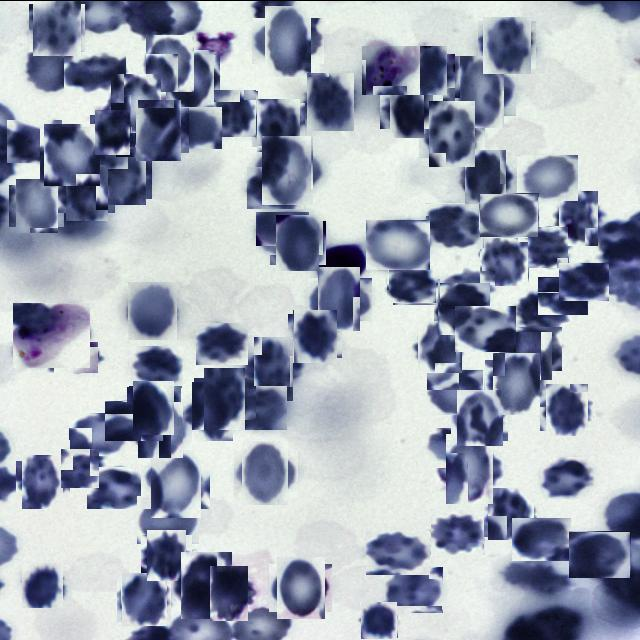leukocyte: (315, 241, 369, 283)
red blood cell: (449, 60, 510, 121), (440, 438, 500, 498), (146, 453, 206, 513), (176, 554, 236, 614), (258, 140, 318, 200), (42, 124, 102, 184), (258, 10, 317, 70), (366, 219, 430, 269), (424, 106, 481, 162), (272, 559, 328, 615), (238, 444, 294, 500), (108, 74, 164, 130), (489, 355, 544, 410), (256, 210, 324, 254), (137, 495, 199, 543), (313, 272, 367, 326), (163, 51, 217, 105), (126, 283, 180, 337), (131, 102, 185, 156), (569, 530, 631, 577), (503, 322, 558, 374), (366, 530, 430, 574), (304, 74, 357, 127), (517, 154, 578, 200), (455, 305, 516, 351), (481, 18, 534, 70), (144, 36, 196, 88), (248, 342, 300, 394), (31, 1, 83, 53), (96, 149, 148, 201), (454, 391, 506, 443), (436, 280, 488, 332), (199, 372, 251, 424), (22, 43, 76, 93), (385, 566, 443, 612), (426, 202, 484, 248), (64, 50, 127, 92), (159, 106, 222, 148), (69, 411, 129, 455), (427, 368, 484, 414), (87, 466, 149, 508), (135, 404, 186, 455), (480, 192, 539, 236), (512, 517, 571, 560), (119, 574, 169, 624), (272, 218, 322, 268), (188, 386, 238, 436), (62, 166, 112, 216), (247, 165, 304, 208), (462, 152, 511, 202), (486, 488, 535, 538), (290, 311, 340, 360), (425, 427, 486, 467), (431, 509, 485, 554), (7, 119, 62, 162), (105, 400, 164, 440), (234, 385, 287, 429), (18, 457, 66, 505), (416, 322, 464, 370), (12, 181, 60, 229), (130, 383, 178, 431), (540, 456, 594, 498), (128, 346, 182, 388), (255, 100, 302, 148), (481, 237, 528, 285), (555, 194, 602, 242), (205, 568, 252, 616), (542, 386, 590, 432), (196, 322, 248, 364), (143, 532, 190, 578), (515, 292, 570, 331), (211, 90, 257, 136), (440, 270, 495, 308), (20, 562, 64, 606), (387, 266, 437, 304), (538, 276, 588, 314), (559, 262, 609, 300), (385, 89, 428, 133), (409, 49, 452, 91), (528, 225, 569, 267), (46, 340, 99, 372), (92, 111, 132, 152), (61, 447, 100, 487), (360, 600, 398, 638)
trophozoite: (13, 302, 90, 367), (363, 42, 418, 96)
